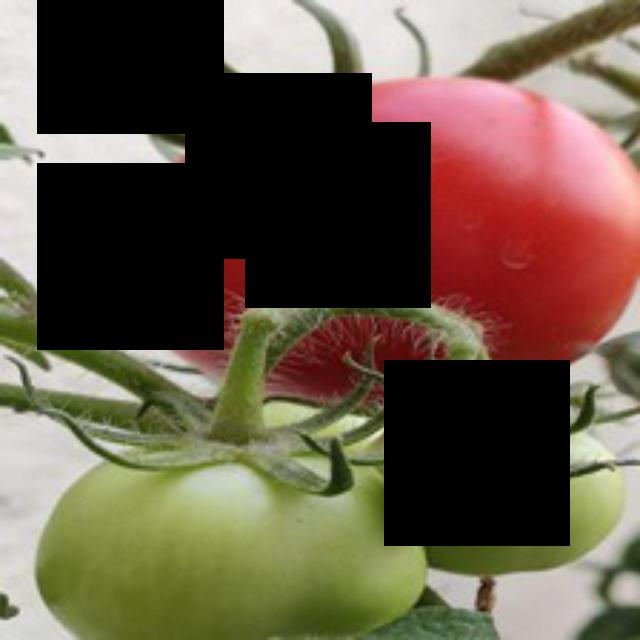tomato: (105, 71, 640, 382)
